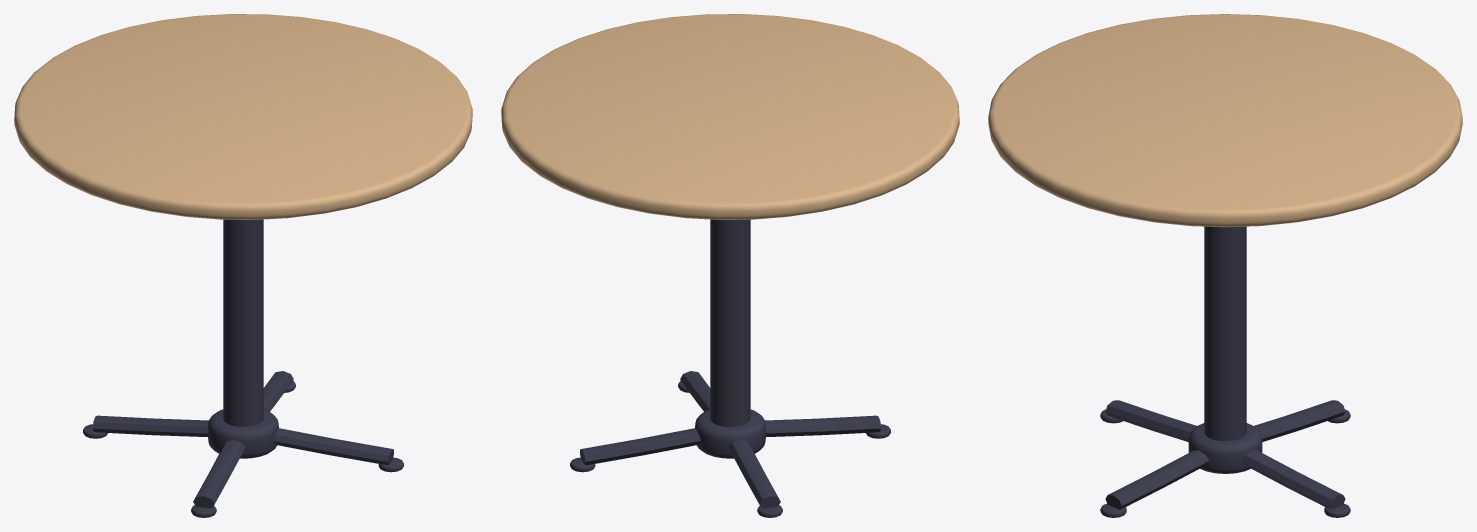
Rendered from table_cafe.glb.
The picture shows the model from 3 angles, left to right: view 1: azimuth 30°, elevation 25°; view 2: azimuth 150°, elevation 25°; view 3: azimuth 270°, elevation 25°; orthographic projection. The views are drawn at different scales.
Parts seen in each view (by area): view 1: oak, charcoal; view 2: oak, charcoal; view 3: oak, charcoal.
Part boxes in pixels (box(x1,y1,x2,y2)): oak: box(14, 14, 472, 219); charcoal: box(83, 219, 403, 517); oak: box(501, 14, 959, 219); charcoal: box(570, 219, 890, 517); oak: box(988, 14, 1462, 226); charcoal: box(1100, 226, 1350, 517).
Bounding box in the file's own units: 0.9 × 0.74 × 0.9.
